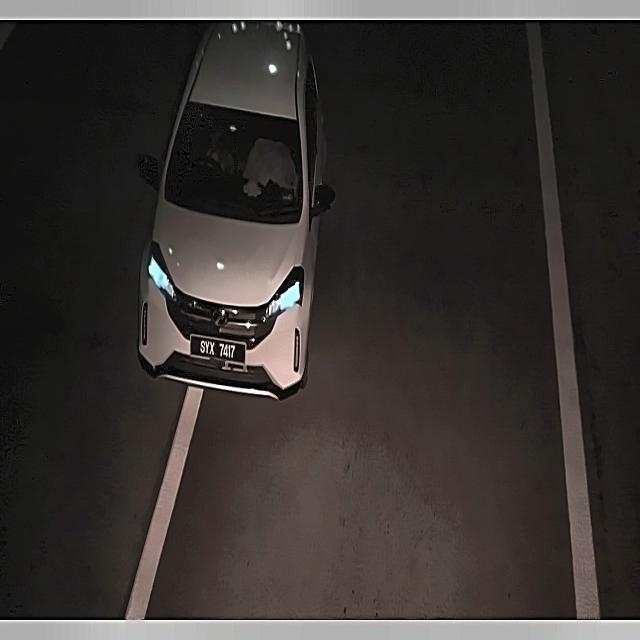car: (188, 330, 250, 369)
